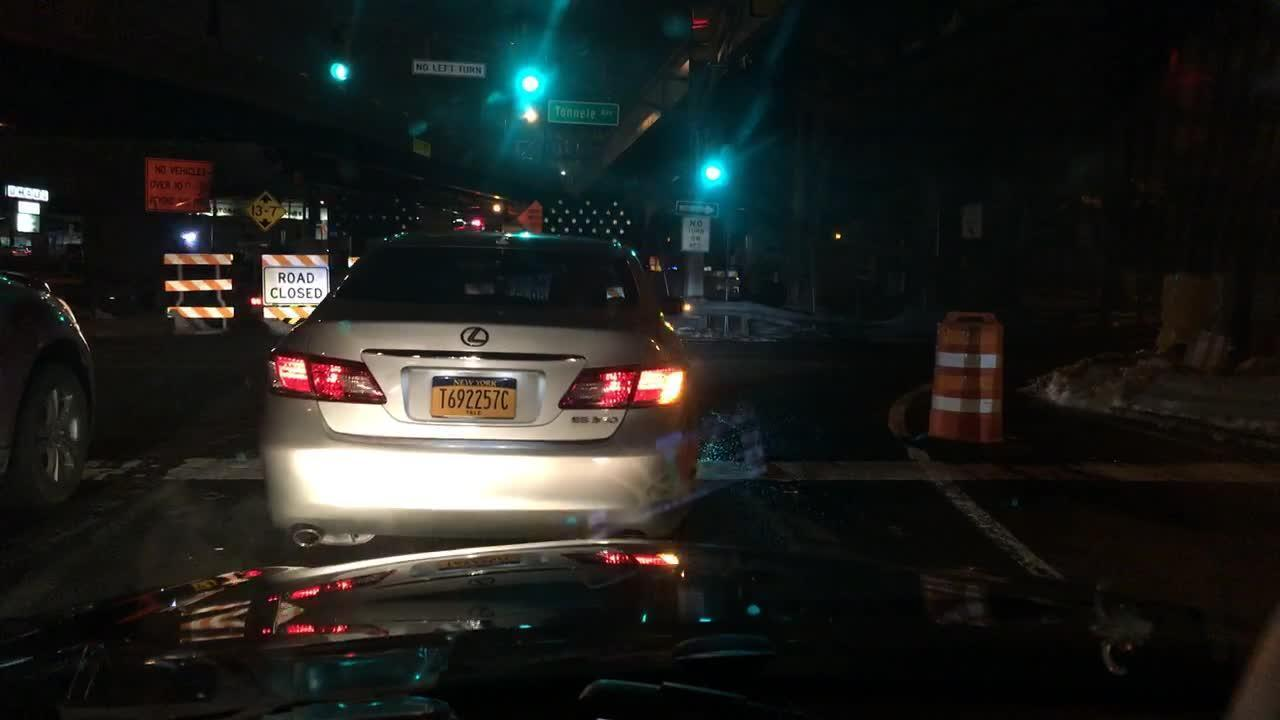lexus: (451, 320, 499, 352)
